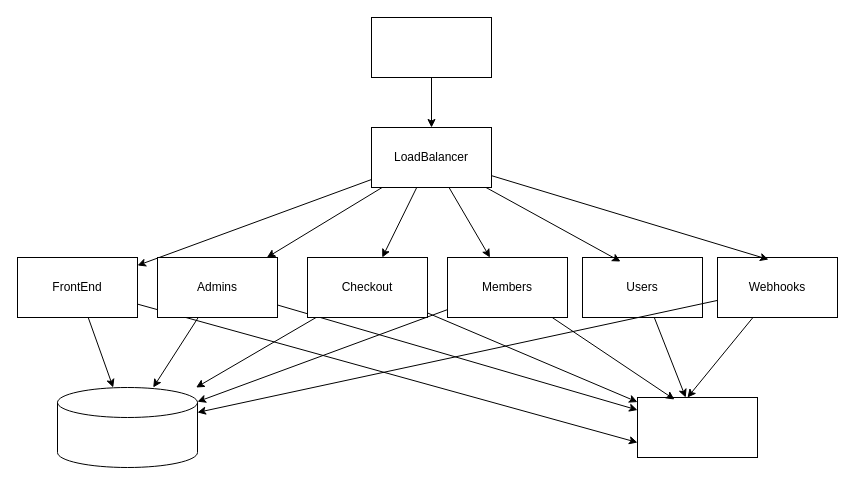
Image size: 855x485. Some labels were removed from this diagram. The shapes that lost their labels are listed below. From the top down, each one's centre as x and y in pixels, then its label:
At point (431, 47): "External Traffic".
At point (127, 427): "PostGreeSQL".
At point (697, 427): "Elastic Redis".
